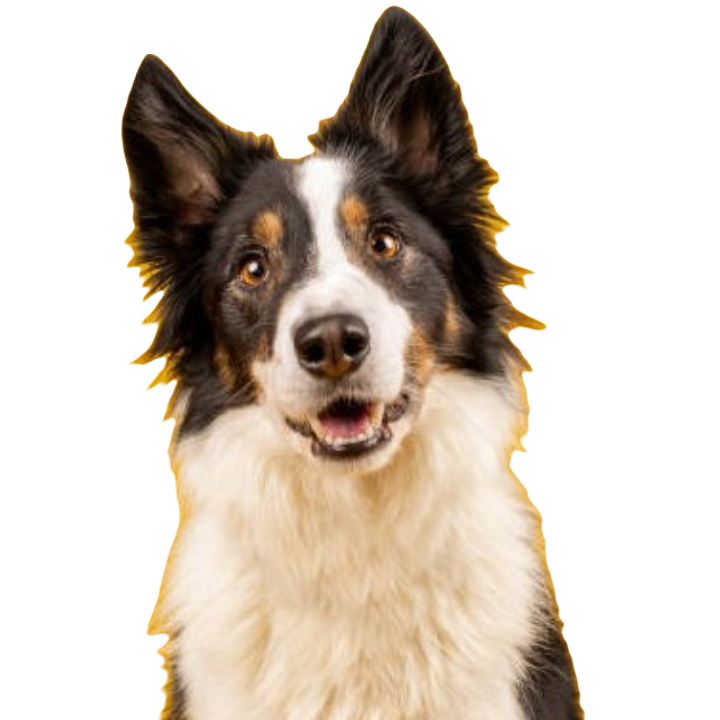Dog: (118, 5, 583, 719)
